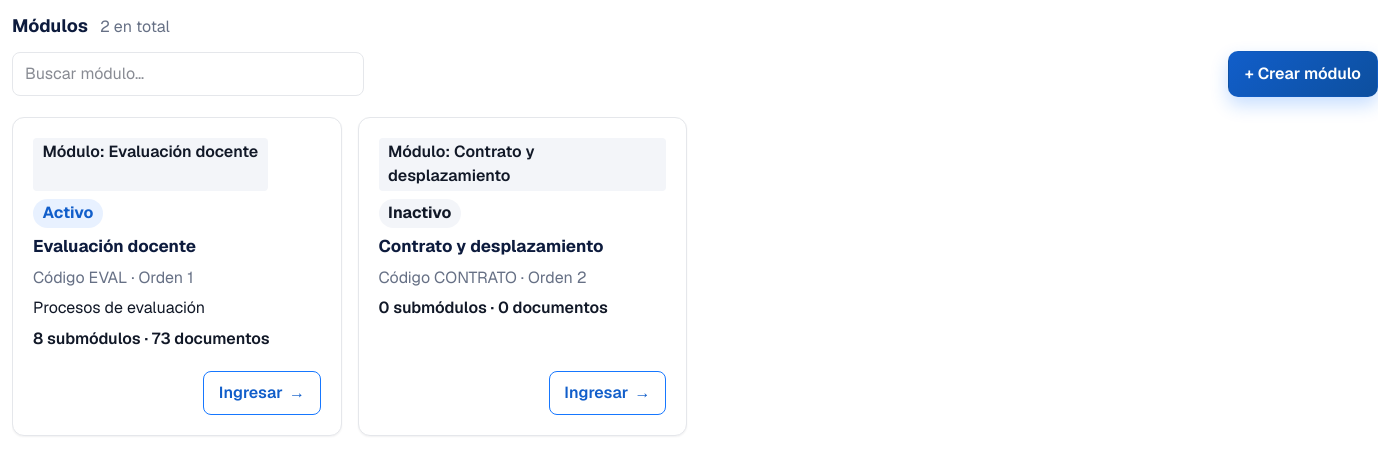
ModulesExplorer › filters cards by the search box
Type "contrato" into the search field named "Buscar módulo por nombre o código" at [188, 74], box top-left (12, 52), bottom-right (364, 96)
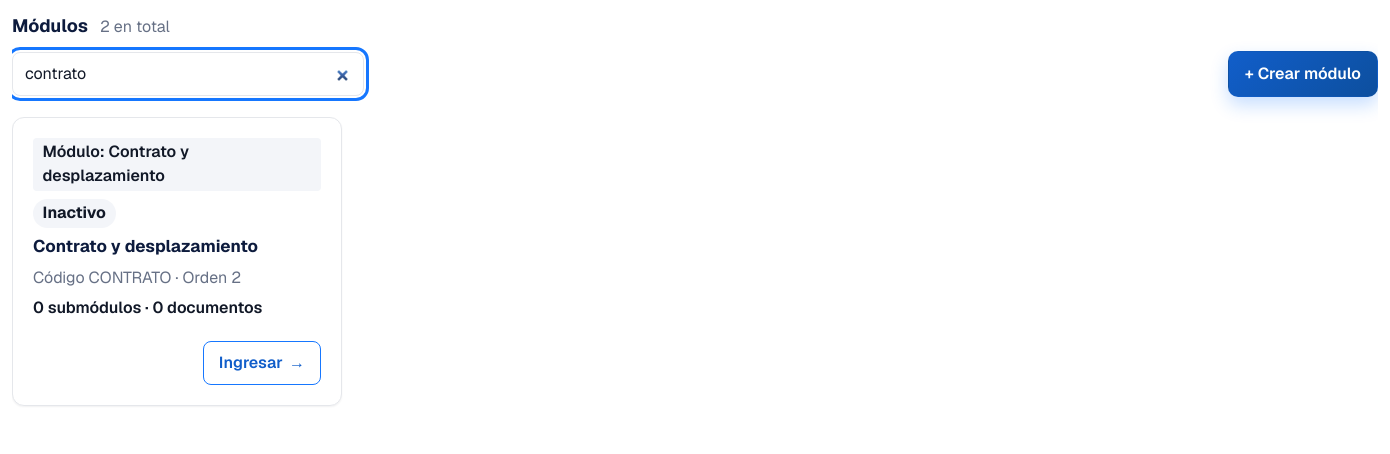
Expected: the heading "Contrato y desplazamiento" is shown, top-left (33, 235), bottom-right (258, 257)
Now the text "Evaluación docente" is gone
